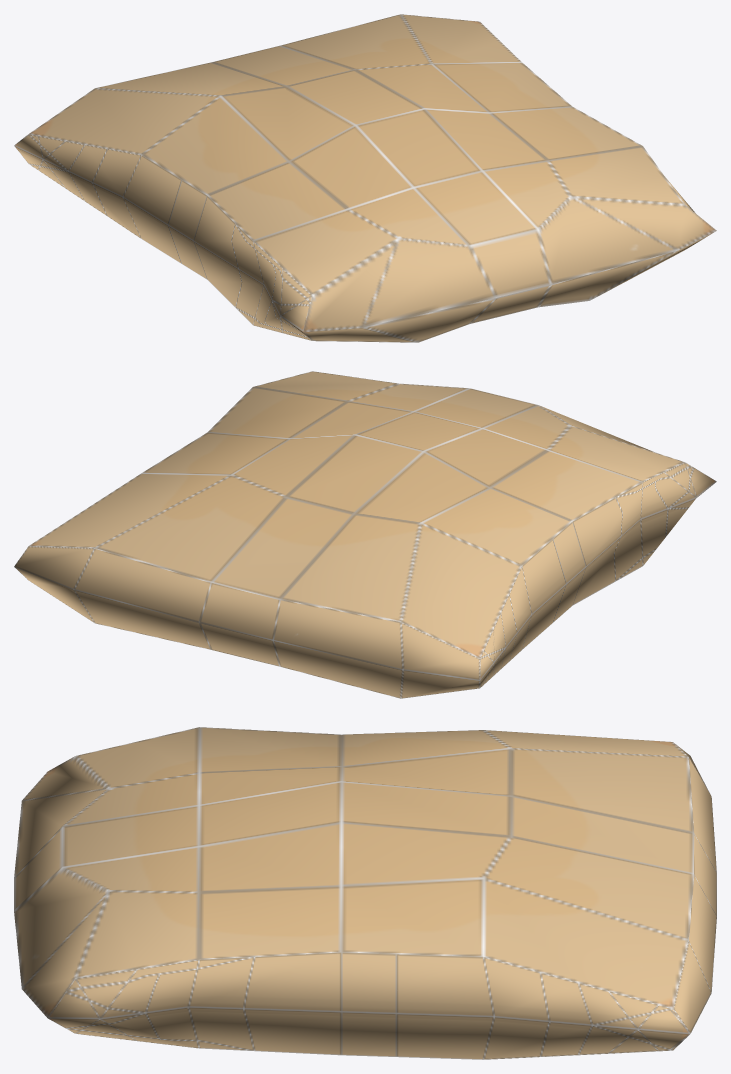
The model's file is asabukuro.fbx.
3 renders of one model, top to bottom at view 1: azimuth 30°, elevation 25°; view 2: azimuth 150°, elevation 25°; view 3: azimuth 270°, elevation 25°, orthographic. The views are drawn at different scales.
Visible parts, largest first — view 1: pCube1; view 2: pCube1; view 3: pCube1.
Part boxes in pixels (left/top/right/bottom): pCube1: left=14, top=14, right=716, bottom=342; pCube1: left=14, top=371, right=716, bottom=698; pCube1: left=14, top=727, right=716, bottom=1059.
Size of the model in its own units: 59.74 by 18.64 by 63.81.
